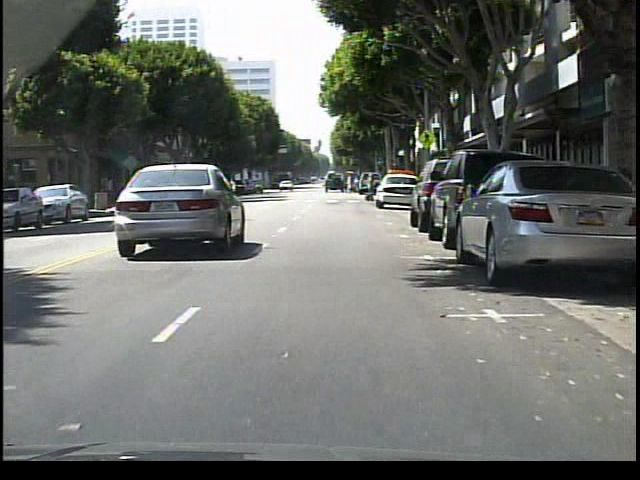person: (363, 172, 378, 203), (351, 171, 352, 191)
